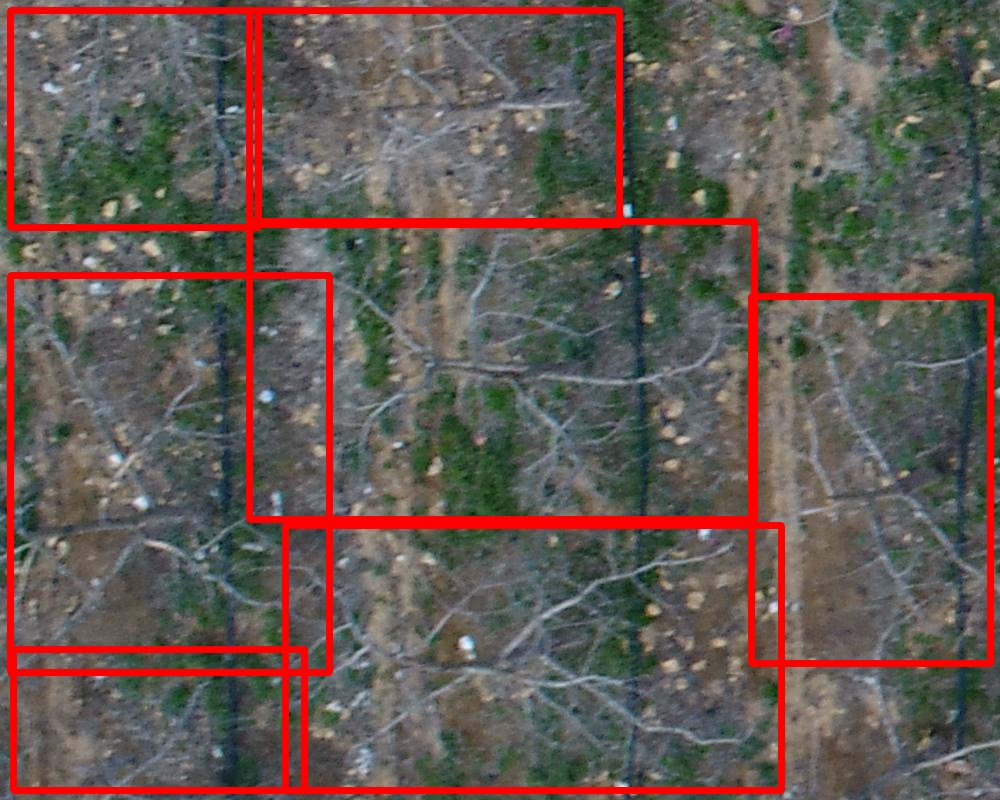apple: (249, 221, 754, 519), (285, 525, 781, 790), (10, 275, 329, 672), (751, 296, 990, 663), (249, 10, 619, 224), (10, 10, 258, 227), (13, 649, 304, 790)
